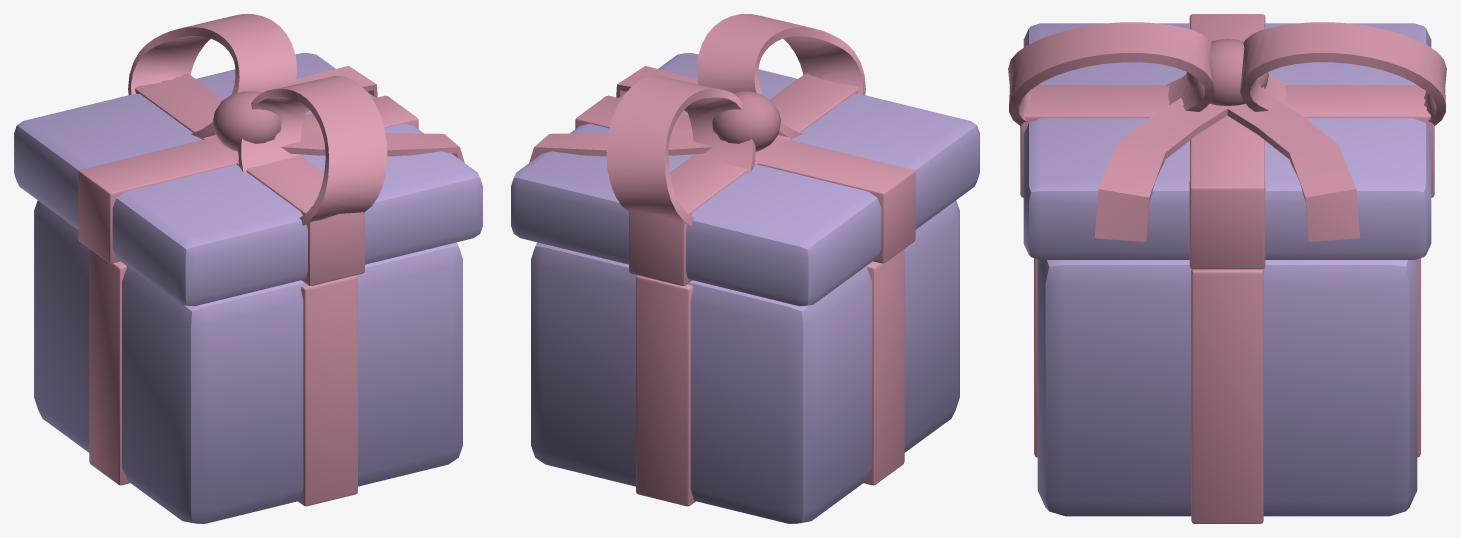
Rendered from W4_GiftBox_B_lod0.fbx.
The picture shows the model from 3 angles, left to right: view 1: azimuth 30°, elevation 25°; view 2: azimuth 150°, elevation 25°; view 3: azimuth 270°, elevation 25°; orthographic projection. The views are drawn at different scales.
Visible parts, largest first — view 1: W4_GiftBox_B.001; view 2: W4_GiftBox_B.001; view 3: W4_GiftBox_B.001.
Boxes of the visible parts, x1,y1,x2,y2 form: W4_GiftBox_B.001: (14, 14, 482, 523); W4_GiftBox_B.001: (511, 14, 979, 523); W4_GiftBox_B.001: (1008, 14, 1446, 523).
Bounding box in the file's own units: 0.2484 × 0.2764 × 0.2543.
